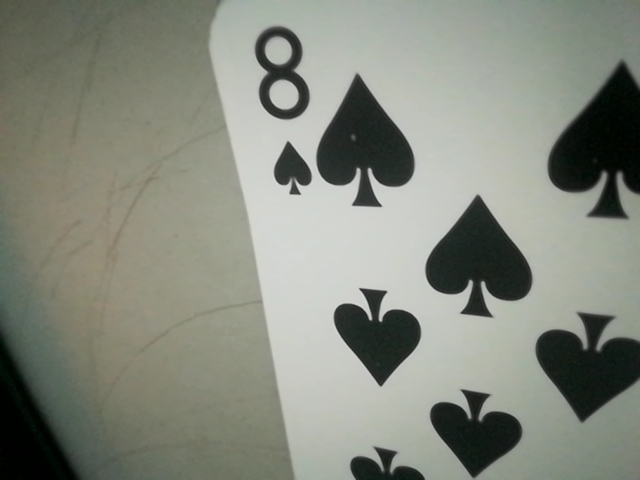ht 8: (239, 17, 329, 205)
